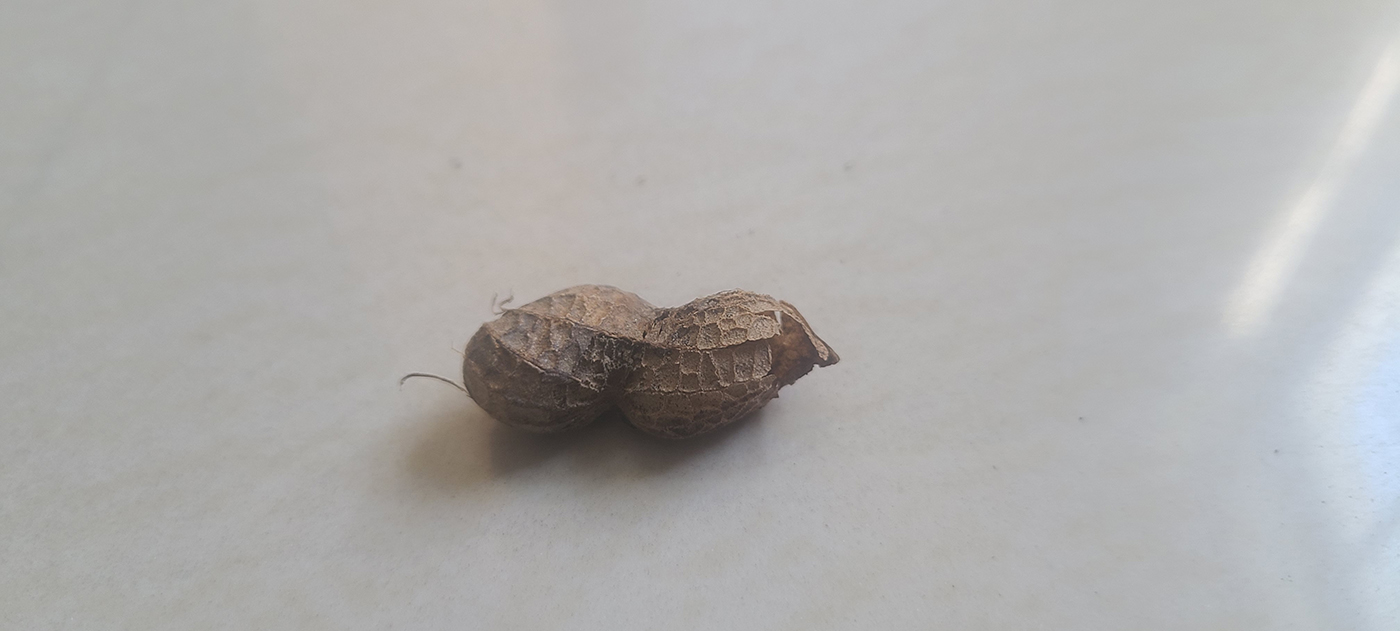l: (457, 281, 841, 439)
